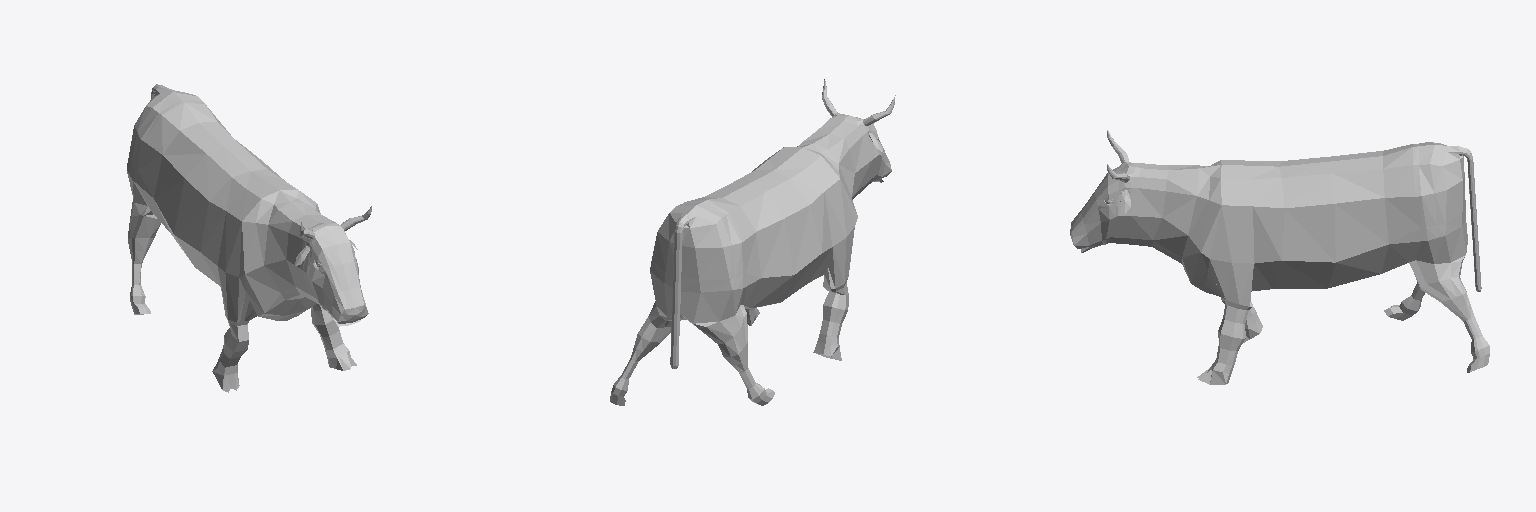
The model's file is 002_BullNew02move.obj.
3 renders of one model, left to right at view 1: azimuth 30°, elevation 25°; view 2: azimuth 150°, elevation 25°; view 3: azimuth 270°, elevation 25°, orthographic.
Visible parts, largest first — view 1: Boi.000; view 2: Boi.000; view 3: Boi.000.
Boxes of the visible parts, x1,y1,x2,y2 form: Boi.000: [127, 84, 371, 392]; Boi.000: [610, 79, 895, 405]; Boi.000: [1070, 130, 1489, 384].
Bounding box in the file's own units: 15.16 × 25.25 × 44.23.